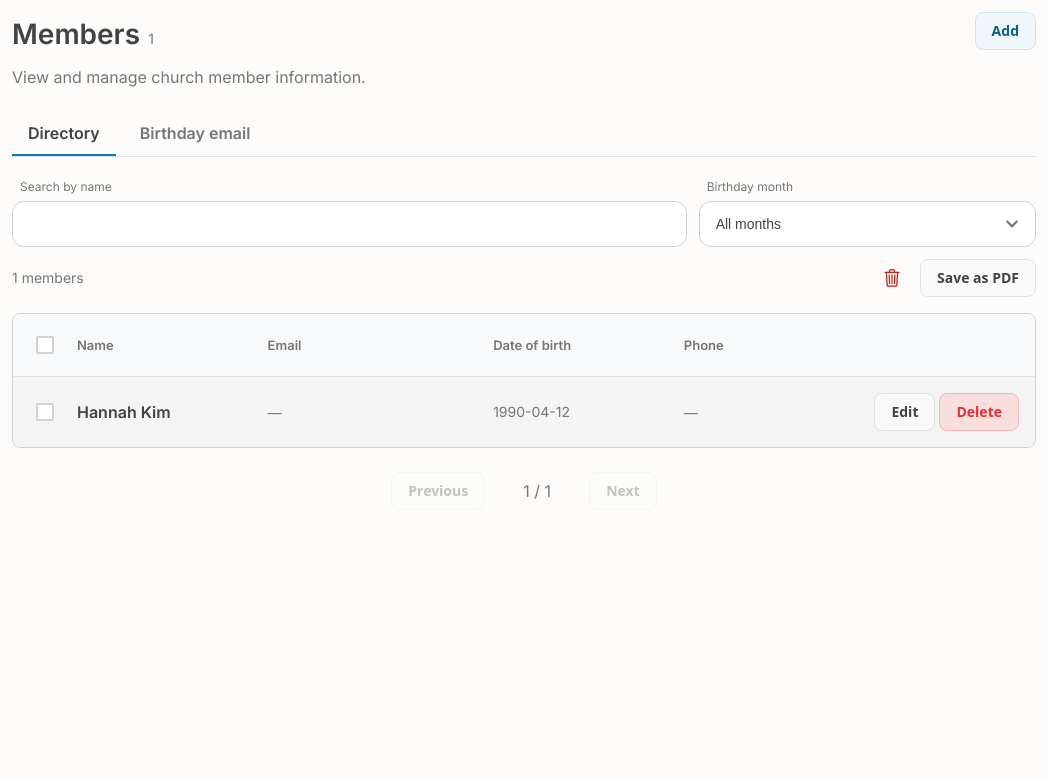
Test: Members tabs › shows the member and birthday tabs to site_admin
Check: the tab "Directory" is shown, box [12,113,116,156]
Step 1. Click the tab "Birthday email" → x=195, y=135, box [124,113,266,156]
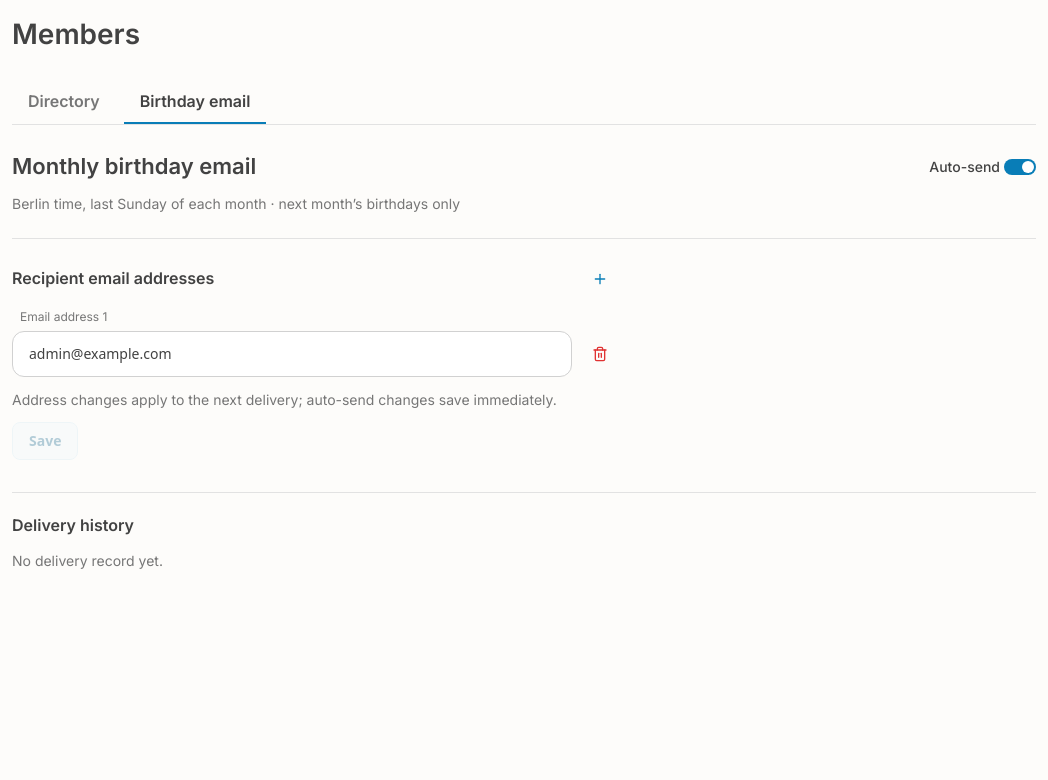
Check: the field labelled "Email address 1" holds "admin@example.com", box [29,344,555,364]
